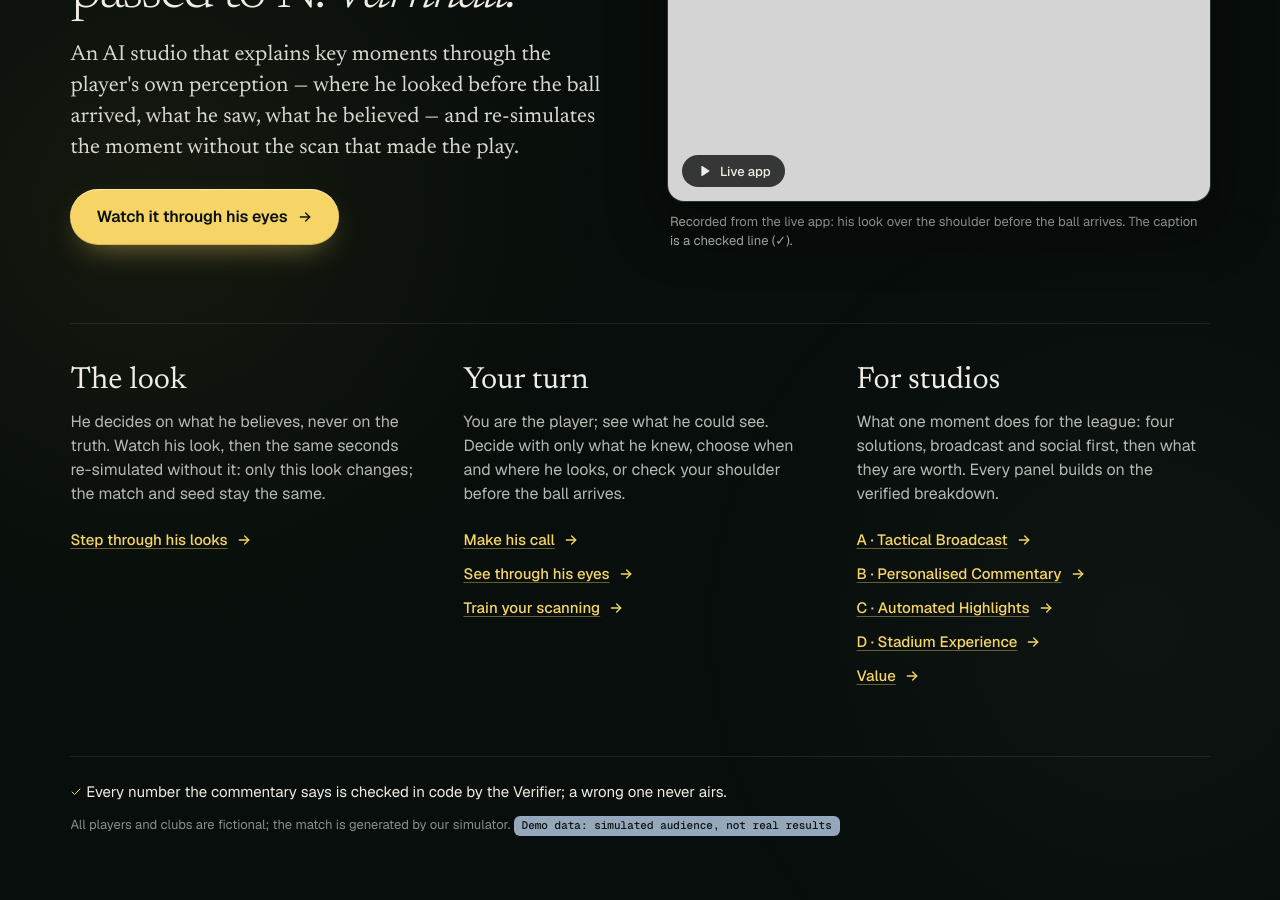
Test: its links › keep the current scenario and settings for every feature, by click and copied address
The image size is (1280, 900).
(page scrolled)
What coordinates should you click on to do the following:
click the link with class "home-link" showing "Step through his looks"
I would click on:
 (161, 540)
Its box is [70,530,252,549].
(page scrolled)
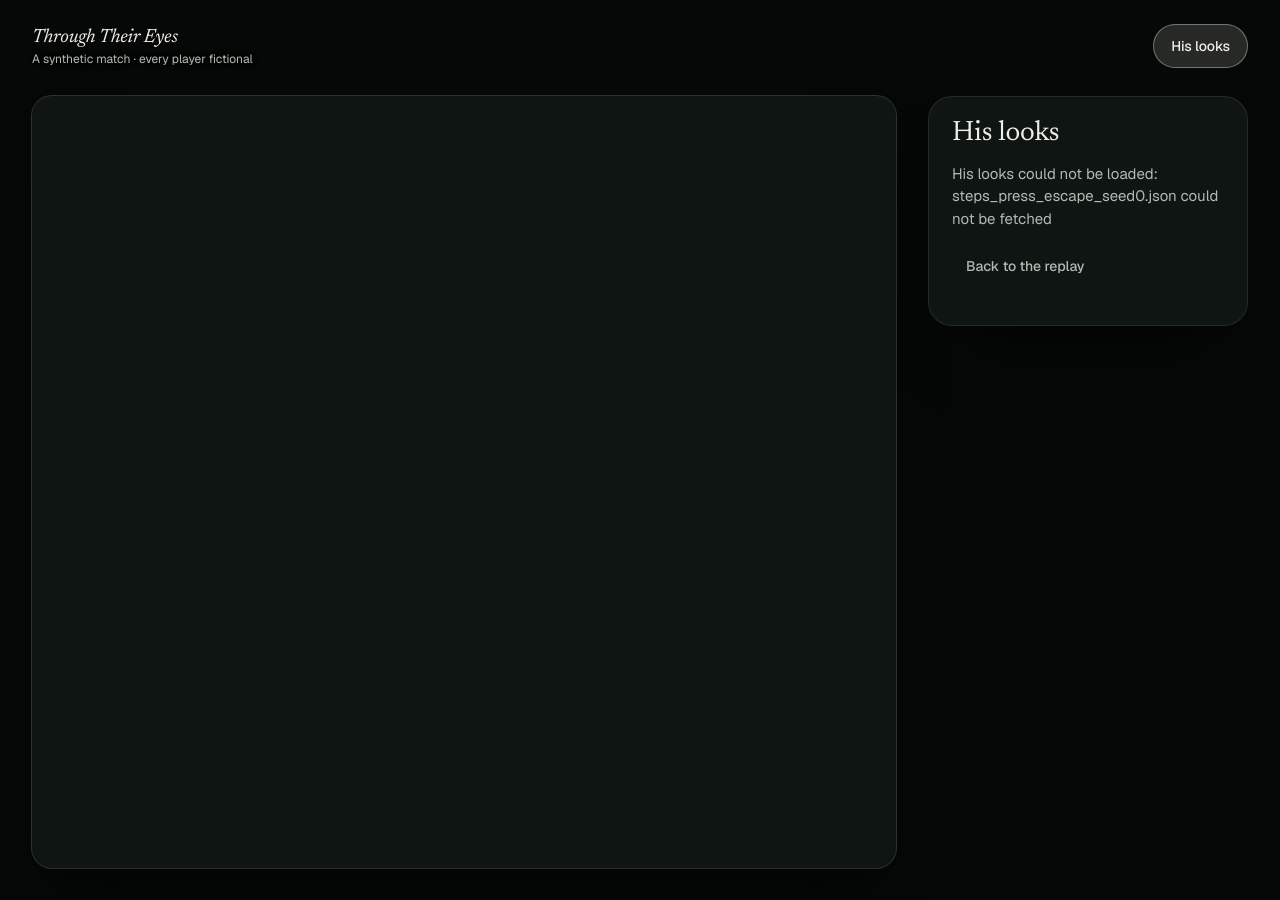
Expected: the element with class "ss-screen" is shown
